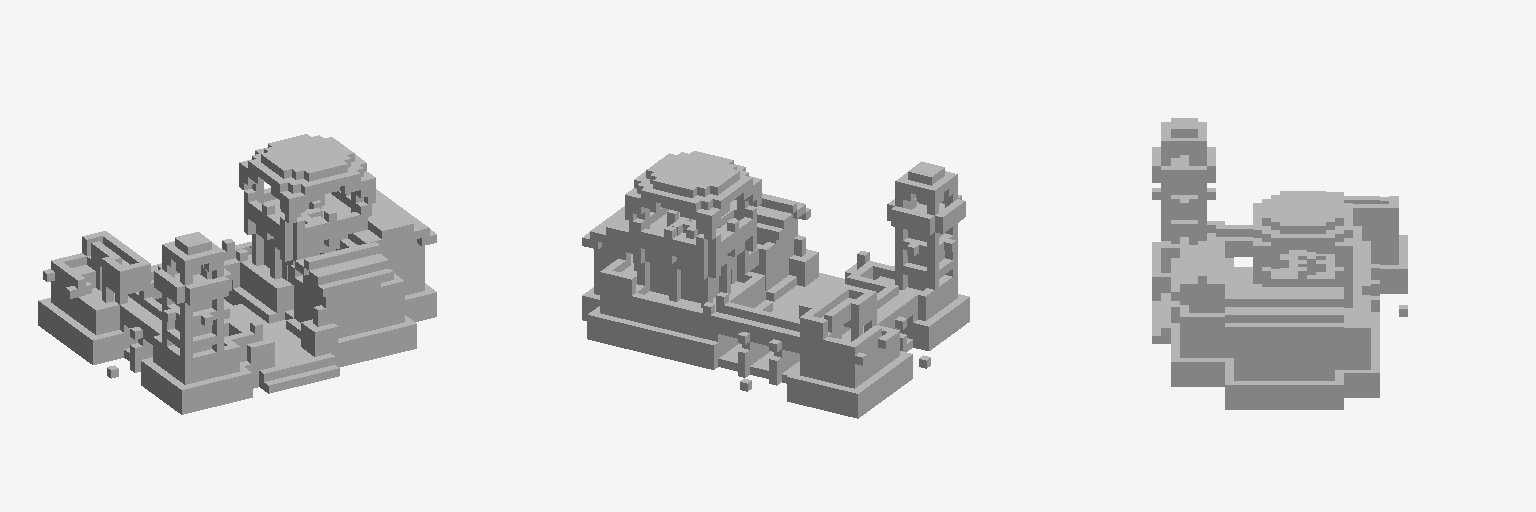
File: base_plate4.obj
3 renders of one model, left to right at view 1: azimuth 30°, elevation 25°; view 2: azimuth 150°, elevation 25°; view 3: azimuth 270°, elevation 25°, orthographic.
Visible parts, largest first — view 1: base_plate4; view 2: base_plate4; view 3: base_plate4.
Part boxes in pixels (bbox=[...]): base_plate4: bbox=[38, 134, 436, 414]; base_plate4: bbox=[582, 151, 969, 418]; base_plate4: bbox=[1152, 118, 1407, 409].
Size of the model in its own units: 39 by 19 by 28.